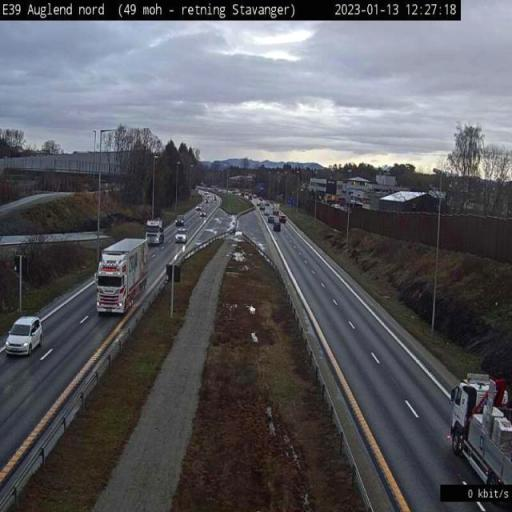vehicle: (96, 237, 149, 316), (4, 316, 43, 358), (4, 316, 42, 358), (145, 218, 164, 245), (175, 232, 187, 244)
